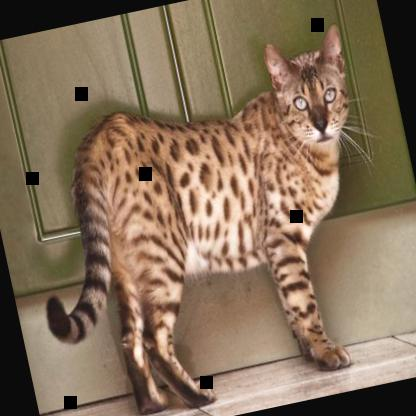cat: (0, 20, 411, 415)
